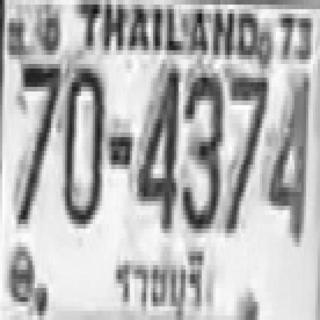N00: (61, 64, 103, 224)
N03: (181, 68, 223, 228)
N04: (267, 73, 308, 238), (136, 64, 177, 228)
N07: (13, 59, 59, 220), (225, 73, 267, 228)
P52: (109, 244, 207, 320)
